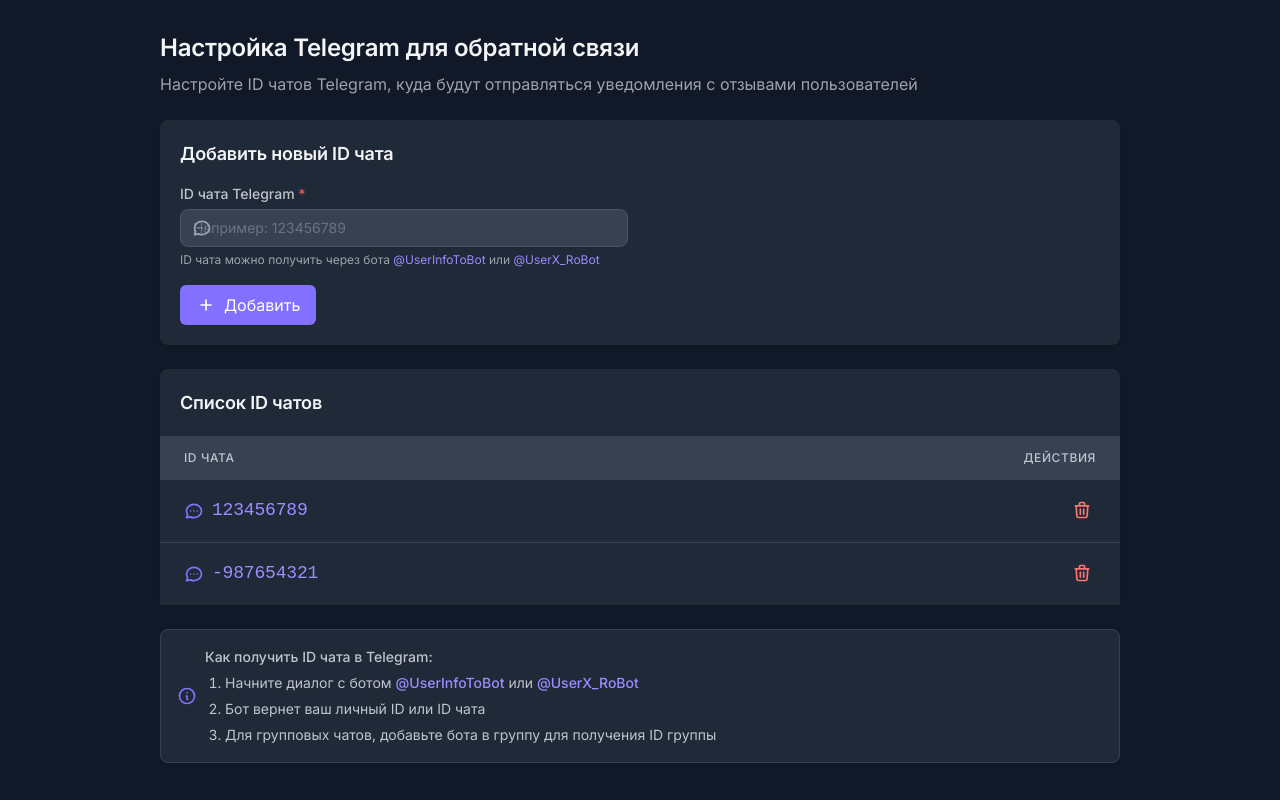
Test: TelegramConfig › должен открывать модальное окно при нажатии на кнопку удаления
This screenshot has width=1280, height=800.
Expected: the text "123456789" is shown, [184,500,308,521]
Step 1. Click the button without text in the row of "123456789" → [1082, 510], box [1068,496,1096,524]
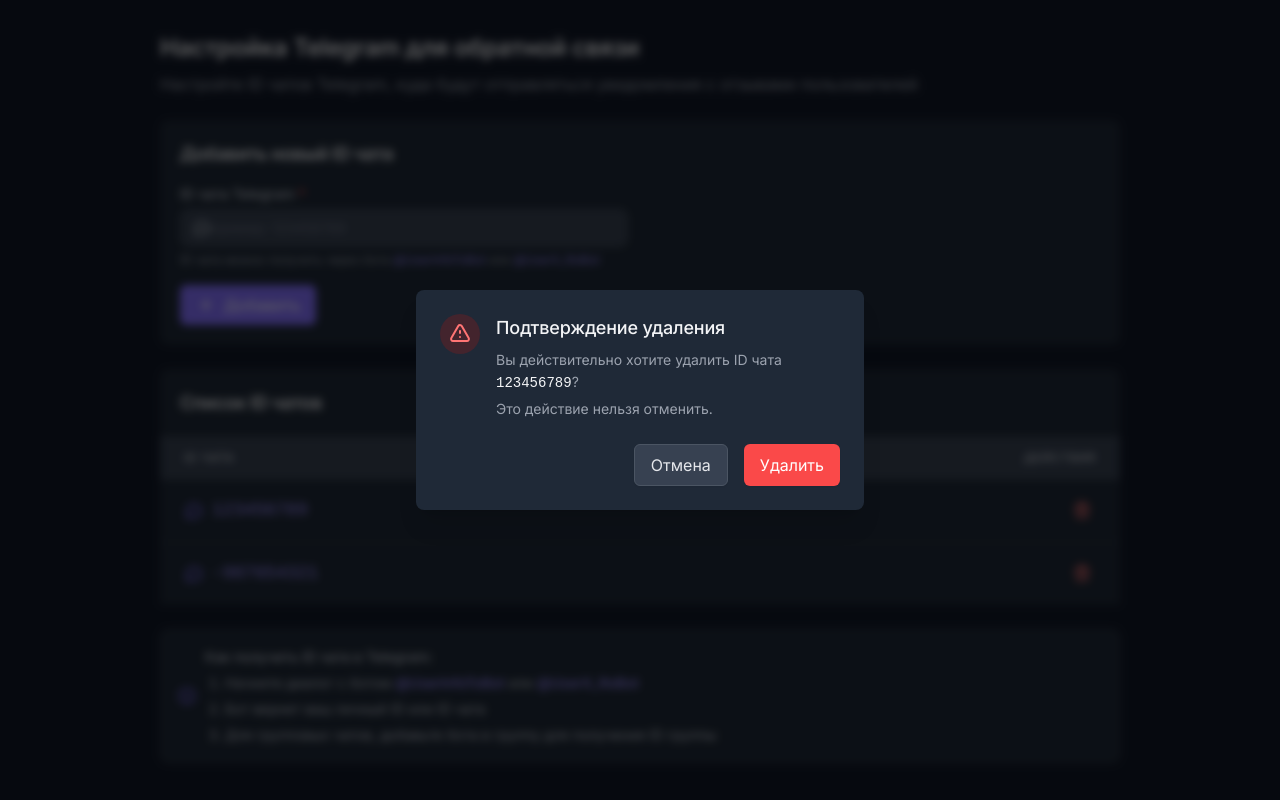
Expected: the heading "Подтверждение удаления" is shown, [496,317,725,338]
Expected: the text "Вы действительно хотите удалить ID чата 123456789?" is shown, [496,351,782,391]
Expected: the text "123456789" is shown, [496,375,572,391]
